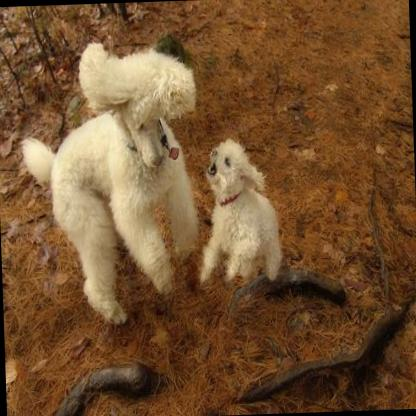standard_poodle: (15, 36, 205, 330), (193, 135, 282, 286)
